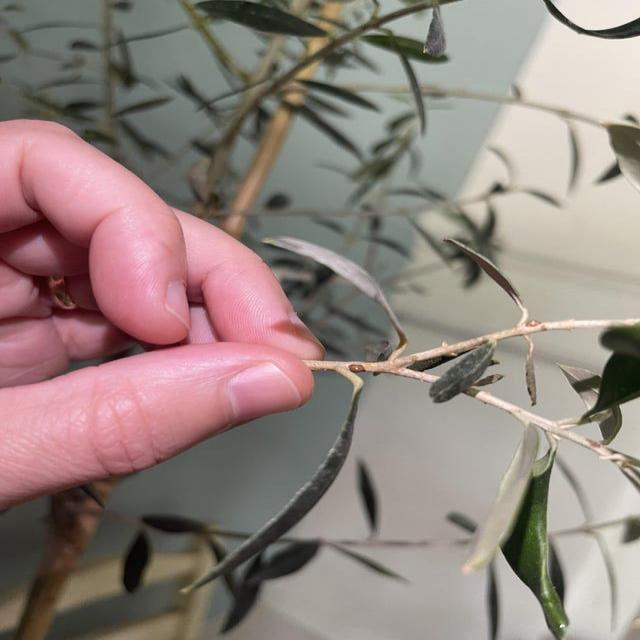Black Scale: (347, 364, 366, 373), (523, 318, 542, 327)
